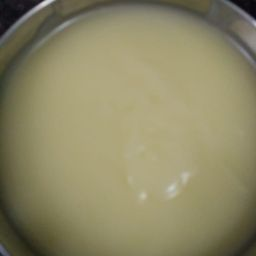Clarified Butter(ghee): (7, 136, 252, 256), (132, 10, 248, 256), (35, 52, 251, 176), (65, 30, 177, 256), (8, 64, 93, 256)
